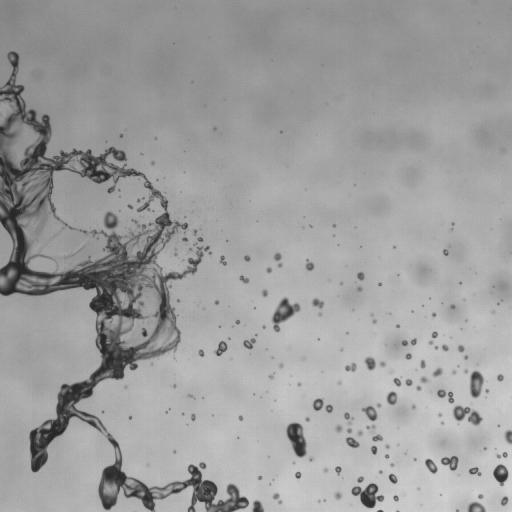droplet: (351, 482, 383, 508), (452, 405, 482, 425), (469, 370, 485, 398), (493, 464, 508, 485), (313, 398, 333, 412), (441, 456, 458, 470), (362, 406, 377, 421), (214, 341, 228, 356), (467, 501, 486, 511), (425, 458, 437, 473), (364, 356, 375, 370), (386, 391, 397, 405), (243, 338, 255, 349), (252, 500, 264, 511), (346, 437, 359, 447), (312, 298, 324, 308), (344, 412, 353, 424), (468, 467, 481, 475), (432, 367, 442, 377), (305, 260, 314, 271), (388, 473, 397, 483), (345, 363, 356, 371), (273, 493, 281, 503), (219, 255, 226, 265), (239, 276, 249, 283), (393, 378, 401, 386), (501, 496, 508, 505), (357, 272, 364, 280), (420, 376, 428, 383), (335, 424, 342, 432), (405, 379, 412, 386), (334, 492, 341, 499), (371, 446, 377, 454), (335, 466, 341, 474), (410, 338, 416, 345), (401, 340, 408, 346), (442, 344, 448, 351), (458, 345, 464, 352), (198, 349, 204, 356), (497, 374, 503, 381), (262, 289, 267, 297), (420, 360, 425, 368), (244, 255, 250, 261), (405, 353, 411, 359), (357, 430, 363, 436), (295, 472, 301, 478), (357, 476, 363, 482), (443, 249, 448, 255), (380, 361, 385, 367), (393, 495, 398, 501), (191, 413, 195, 420), (197, 237, 202, 242), (266, 267, 271, 272), (357, 286, 362, 291), (416, 385, 421, 390), (346, 428, 351, 433), (269, 373, 273, 379), (137, 198, 142, 202), (128, 204, 132, 209), (193, 229, 197, 234), (182, 237, 187, 241), (376, 403, 381, 407), (478, 494, 483, 498), (215, 300, 219, 304), (372, 319, 376, 323), (235, 320, 239, 324), (279, 363, 283, 367), (452, 370, 456, 374), (297, 382, 301, 386), (411, 405, 415, 409), (238, 416, 242, 420), (305, 417, 309, 421), (385, 444, 389, 448), (385, 454, 389, 458), (309, 457, 313, 461), (451, 304, 454, 308), (432, 313, 436, 316), (464, 355, 467, 359), (464, 369, 467, 373), (440, 421, 444, 424), (324, 468, 327, 472), (151, 161, 154, 164), (318, 313, 321, 316), (338, 381, 341, 384), (485, 389, 488, 392), (189, 394, 192, 397), (438, 413, 441, 416), (390, 463, 393, 466), (258, 476, 261, 479), (435, 345, 437, 349), (378, 283, 381, 285), (396, 324, 398, 327), (78, 249, 80, 251), (174, 253, 176, 255), (263, 326, 265, 328), (173, 385, 175, 387), (484, 447, 486, 449), (414, 458, 416, 460), (379, 470, 381, 472)
ligament: (0, 52, 244, 511), (271, 297, 300, 331), (286, 422, 306, 457), (366, 425, 382, 441), (437, 389, 454, 403), (273, 252, 282, 267), (504, 429, 511, 444), (429, 331, 437, 344), (496, 452, 507, 458), (65, 254, 73, 258), (377, 509, 383, 511), (456, 510, 459, 511)
